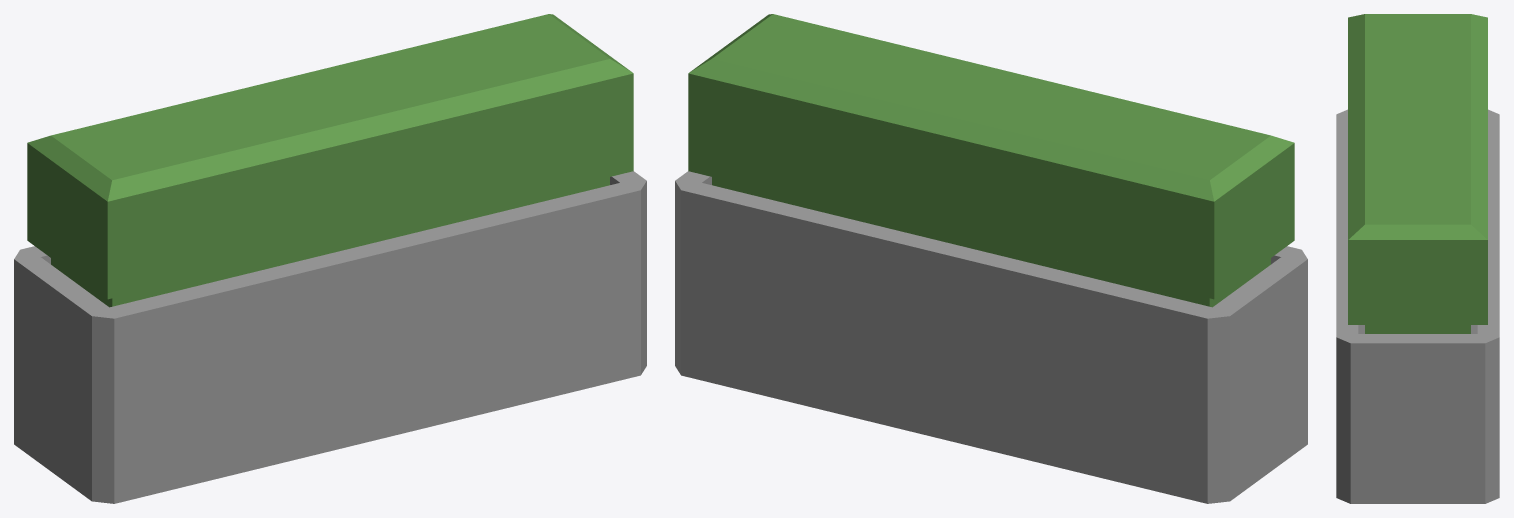
Rendered from FlowerBed_01.fbx.
3 views of the same model, side by side, from view 1: azimuth 30°, elevation 25°; view 2: azimuth 150°, elevation 25°; view 3: azimuth 270°, elevation 25° (orthographic). The views are drawn at different scales.
Visible parts, largest first — view 1: FlowerBed_01; view 2: FlowerBed_01; view 3: FlowerBed_01.
Boxes of the visible parts, bbox=[...] form: FlowerBed_01: bbox=[14, 14, 646, 503]; FlowerBed_01: bbox=[675, 14, 1307, 503]; FlowerBed_01: bbox=[1336, 14, 1499, 503].
Size of the model in its own units: 200 by 106 by 58.82.
